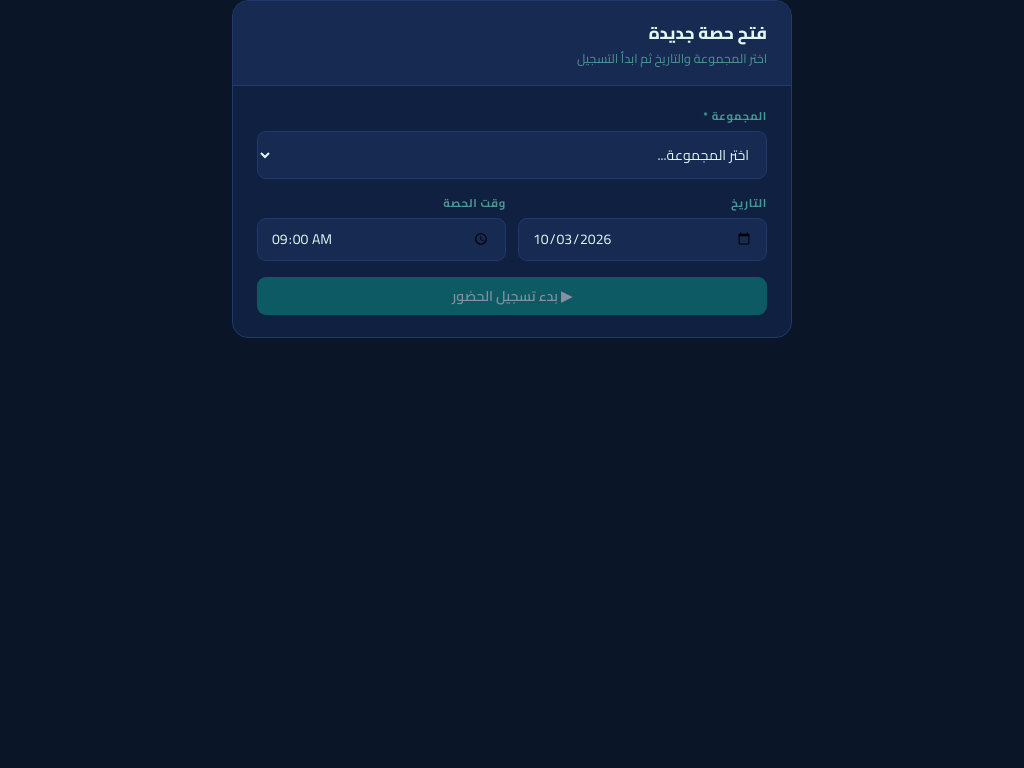
Test: SessionMarking — eligibility-based roster (Group Closure) › shows an error toast (and does not crash) when the roster fetch fails
The image size is (1024, 768).
Select "Group A (1 طالب)" in the dropdown at (512, 155), box [257,131,767,179]
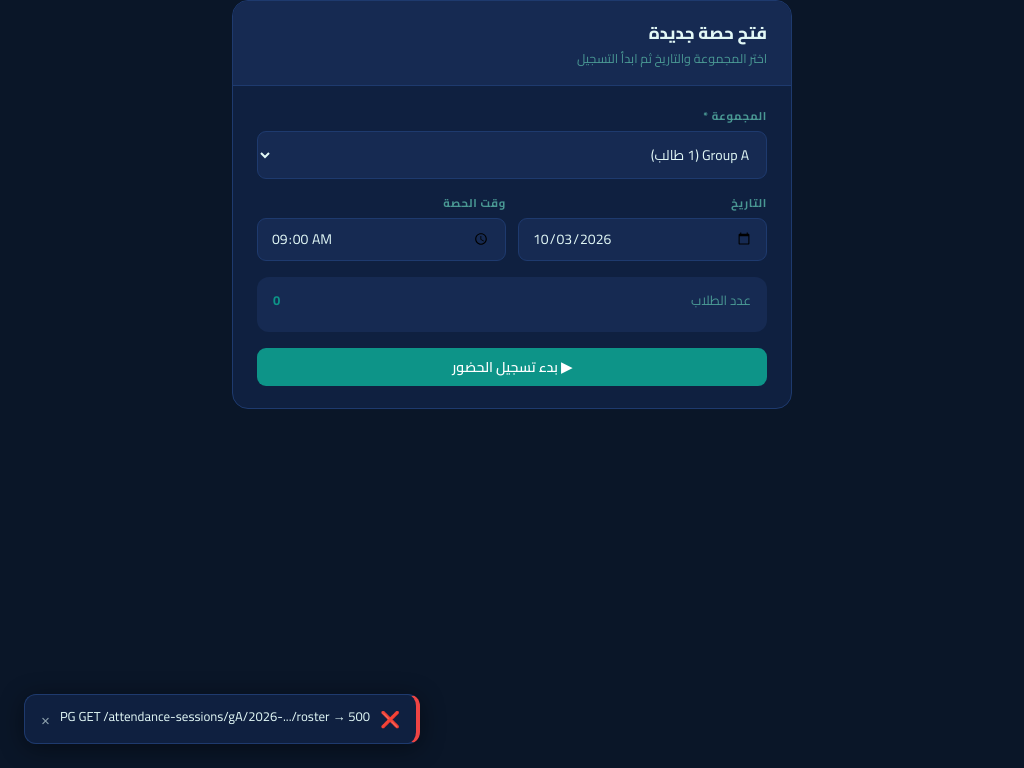
Now the text "PG GET /attendance-sessions/gA/2026-.../roster → 500" is shown, box [60,707,370,726]
